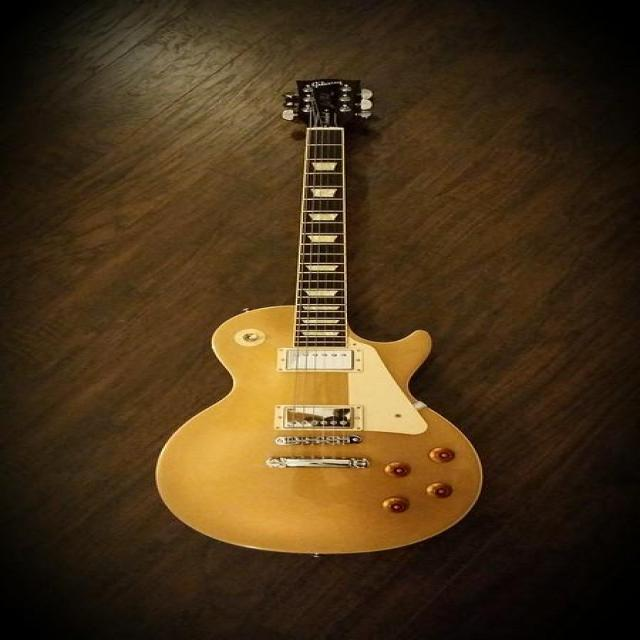guitar: (157, 80, 482, 554)
